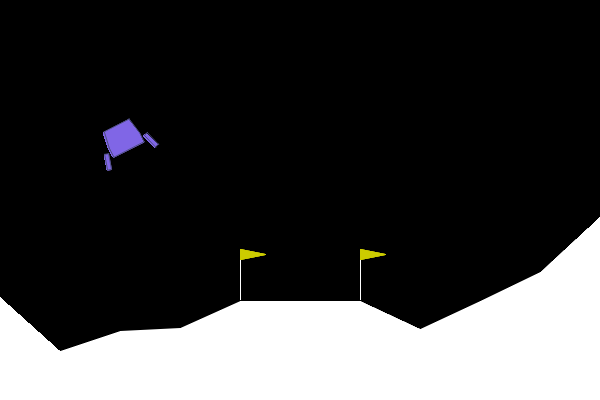lander: (89, 110, 160, 173)
